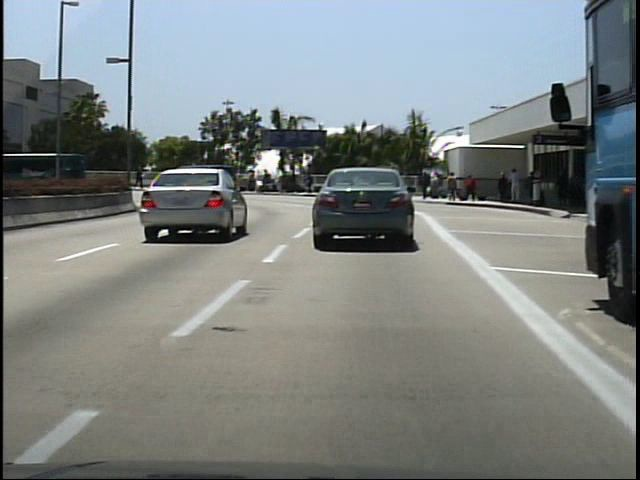person: (553, 163, 571, 210), (507, 167, 523, 206), (463, 171, 480, 206), (495, 171, 511, 205), (525, 169, 540, 205), (446, 169, 461, 203), (133, 161, 148, 194), (418, 171, 432, 201), (204, 169, 220, 194)
